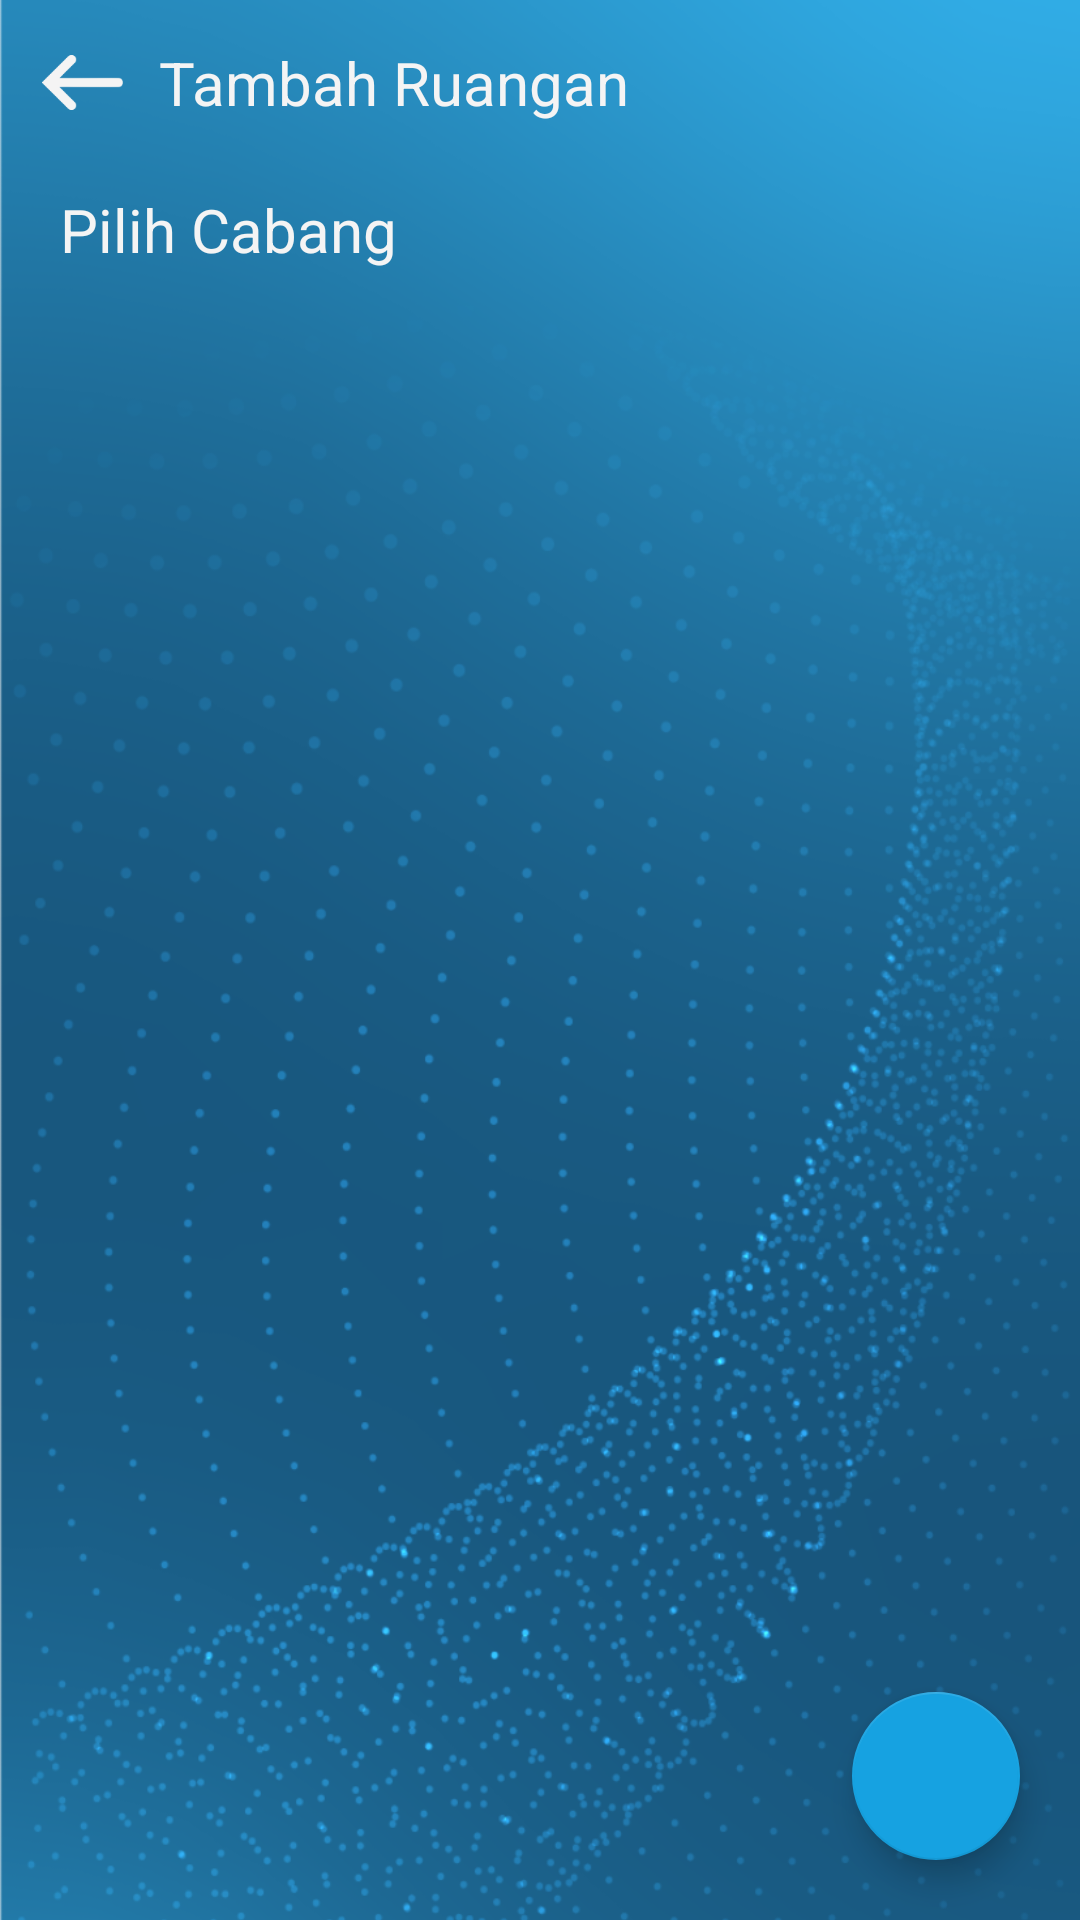

Where to tap for icons on this 1080w x 1920h app screen, as (x=x, y=y):
back: (x=82, y=82)
